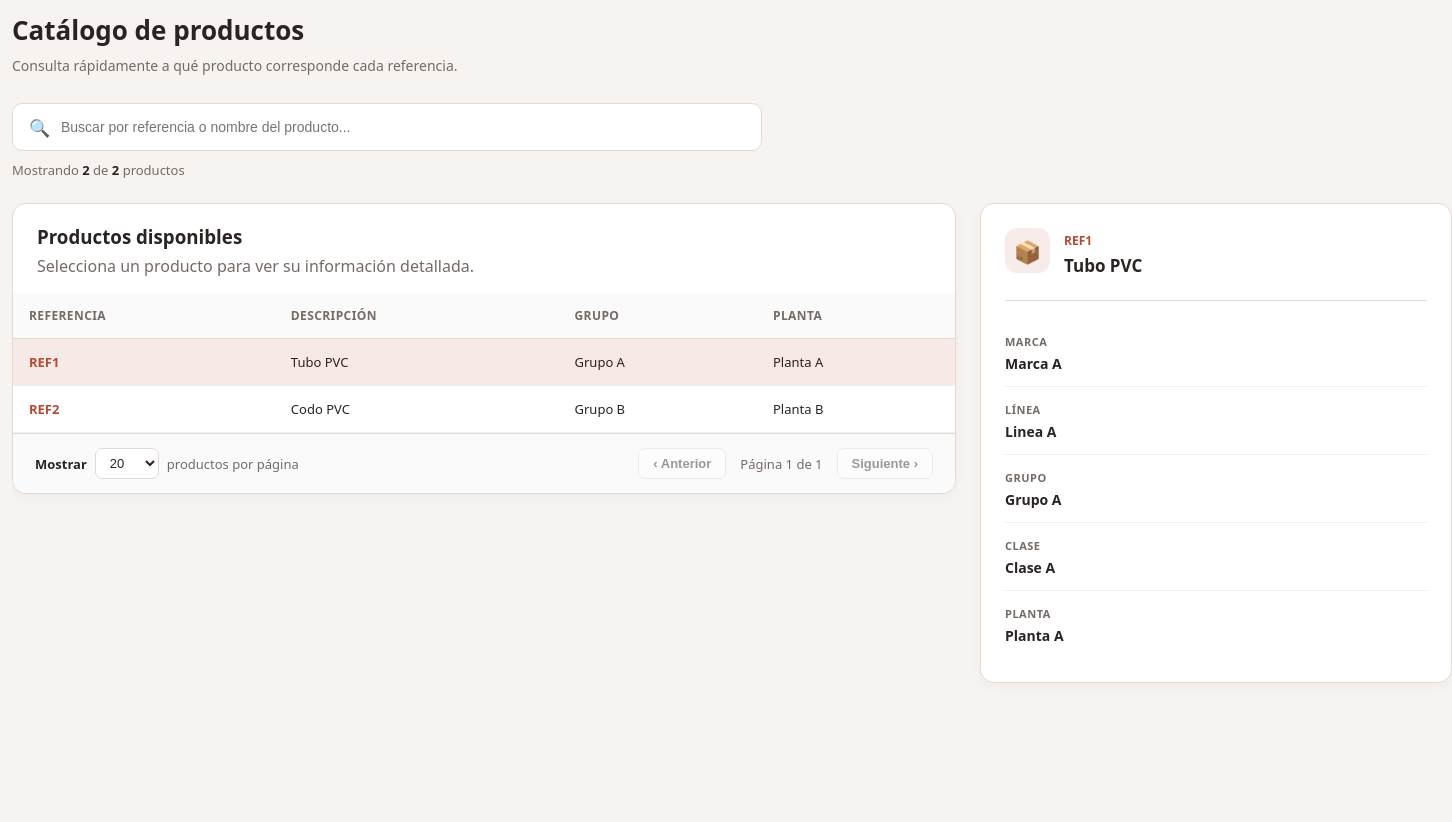
Productos › el botón de limpiar búsqueda aparece solo con texto y la vacía al hacer clic
Type "codo" into the field with placeholder "Buscar por referencia o nombre del producto..." at (387, 127), box x1=12 y1=103 x2=762 y2=151
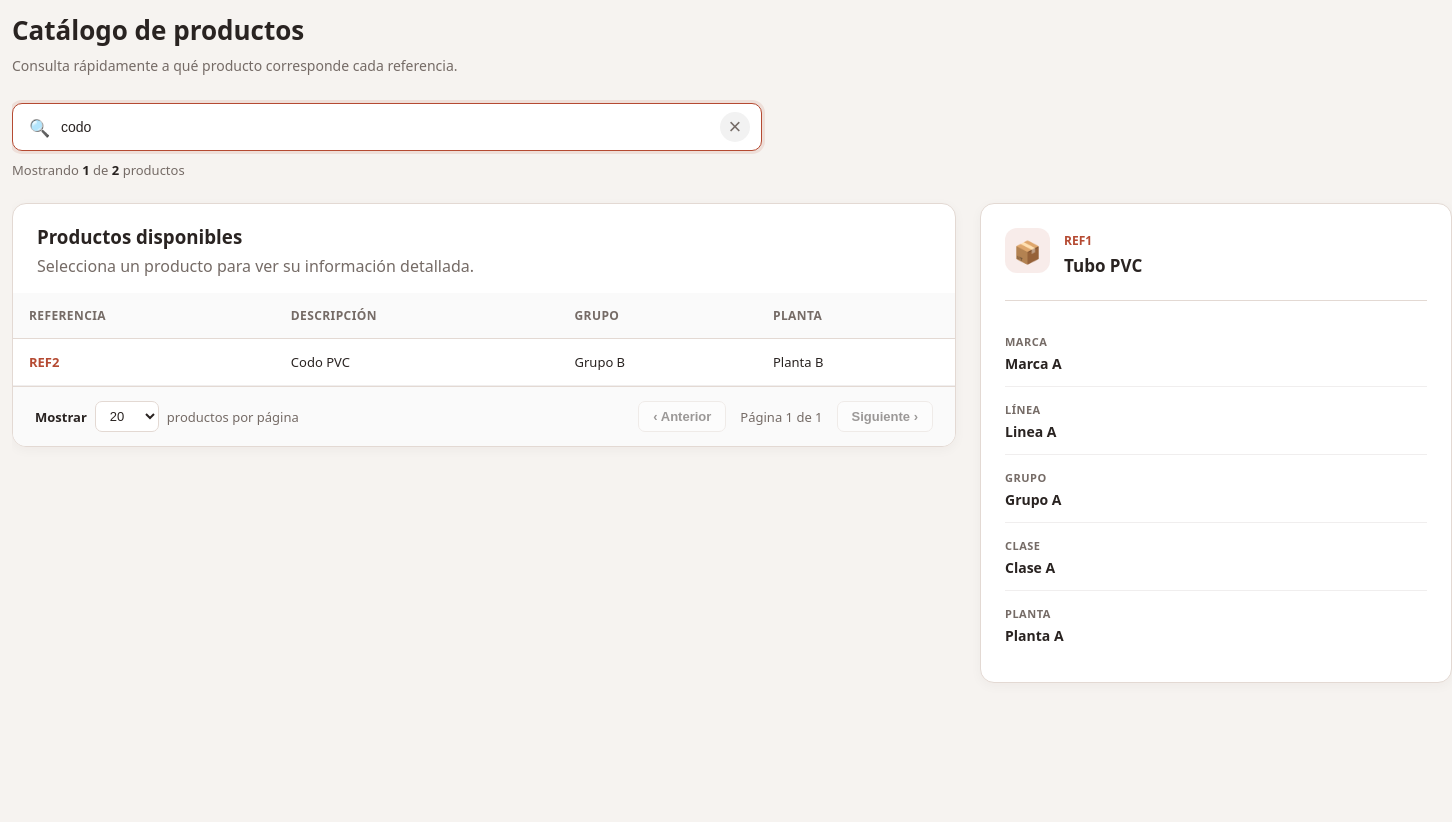
Click the button titled "Limpiar búsqueda" at (735, 127), box x1=720 y1=112 x2=750 y2=142
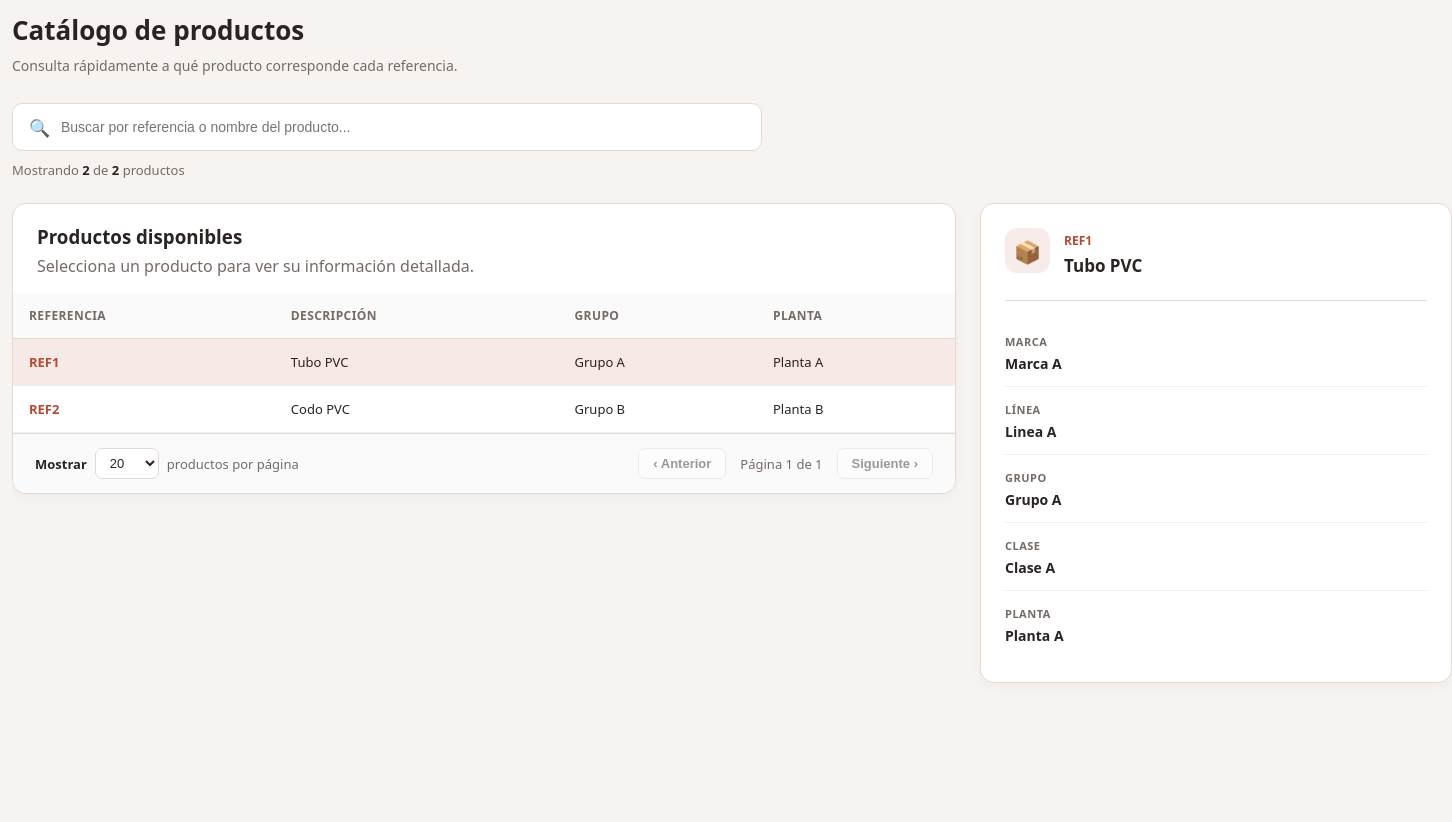
Expected: the field with placeholder "Buscar por referencia o nombre del producto..." is empty, x1=12 y1=103 x2=762 y2=151
Expected: the text "Tubo PVC" is shown, x1=275 y1=338 x2=558 y2=386
